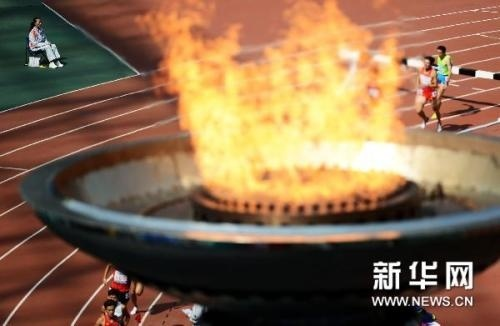fire: (146, 0, 423, 204)
